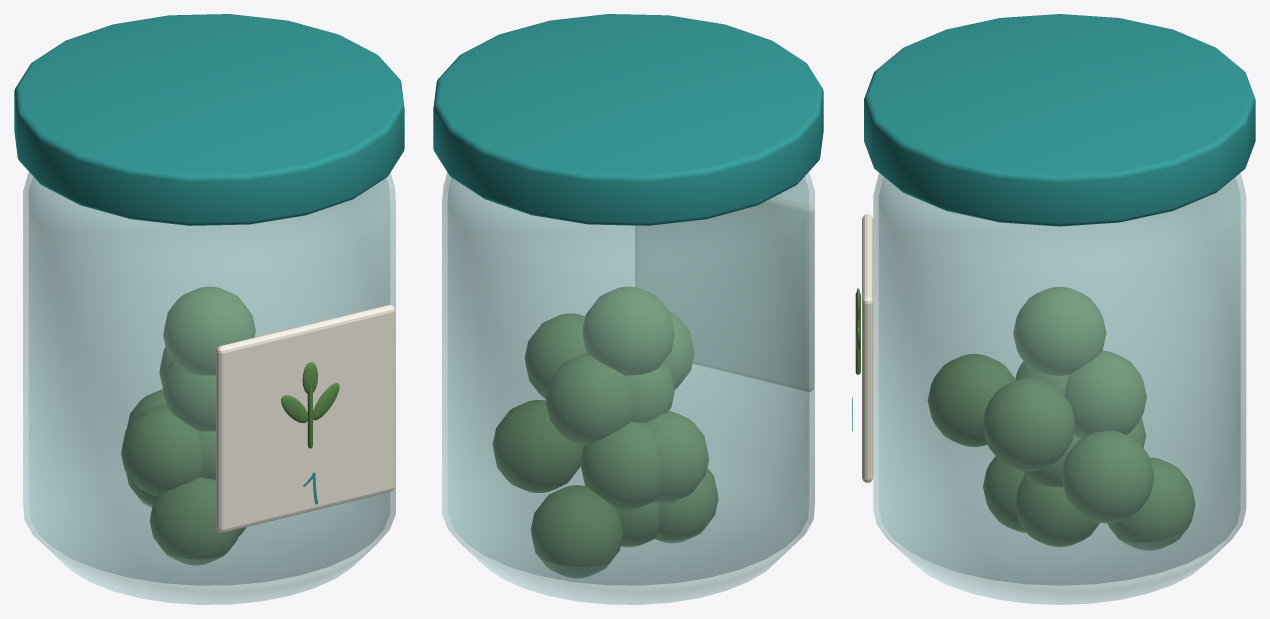
The model's file is harvest_jar_q1.glb.
3 renders of one model, left to right at view 1: azimuth 30°, elevation 25°; view 2: azimuth 150°, elevation 25°; view 3: azimuth 270°, elevation 25°, orthographic.
Parts seen in each view (by area): view 1: Glass_jar, Lid, Label, Contents_on_bottom.012, Contents_on_bottom.004, Contents_on_bottom.001, Contents_on_bottom.009, Contents_on_bottom.006, Contents_on_bottom.007; view 2: Glass_jar, Lid, Label, Contents_on_bottom.002, Contents_on_bottom.012, Contents_on_bottom.010, Contents_on_bottom.005, Contents_on_bottom.007, Contents_on_bottom.004, Contents_on_bottom.008, Contents_on_bottom.001, Contents_on_bottom.009 (+2 smaller); view 3: Glass_jar, Lid, Contents_on_bottom.008, Contents_on_bottom.005, Contents_on_bottom.012, Contents_on_bottom.010, Contents_on_bottom.011, Contents_on_bottom.002, Contents_on_bottom, Label, Contents_on_bottom.001, Contents_on_bottom.006 (+1 smaller).
Part boxes in pixels (x1,y1,x2,y2): Glass_jar: (23, 172, 395, 604); Lid: (14, 14, 404, 225); Label: (216, 305, 395, 532); Contents_on_bottom.012: (163, 286, 255, 375); Contents_on_bottom.004: (121, 405, 202, 495); Contents_on_bottom.001: (149, 477, 239, 564); Contents_on_bottom.009: (163, 361, 215, 431); Contents_on_bottom.006: (197, 430, 215, 480); Contents_on_bottom.007: (127, 389, 165, 428); Glass_jar: (442, 172, 814, 604); Lid: (433, 14, 823, 225); Label: (635, 197, 814, 391); Contents_on_bottom.002: (531, 485, 623, 577); Contents_on_bottom.012: (582, 286, 674, 375); Contents_on_bottom.010: (545, 354, 633, 445); Contents_on_bottom.005: (492, 400, 583, 492); Contents_on_bottom.007: (580, 421, 660, 510); Contents_on_bottom.004: (645, 411, 708, 503); Contents_on_bottom.008: (524, 313, 586, 398); Contents_on_bottom.001: (655, 468, 718, 542); Contents_on_bottom.009: (625, 361, 674, 422); Glass_jar: (873, 173, 1246, 604); Lid: (864, 14, 1255, 226); Contents_on_bottom.008: (982, 378, 1075, 471); Contents_on_bottom.005: (1061, 431, 1154, 523); Contents_on_bottom.012: (1013, 286, 1106, 375); Contents_on_bottom.010: (1064, 351, 1146, 438); Contents_on_bottom.011: (927, 354, 1015, 446); Contents_on_bottom.002: (1108, 457, 1195, 550); Contents_on_bottom: (1015, 475, 1099, 546); Label: (862, 214, 873, 482); Contents_on_bottom.001: (983, 456, 1026, 532); Contents_on_bottom.006: (1022, 435, 1080, 487).
Bounding box in the file's own units: 0.21 × 0.27 × 0.2162.
